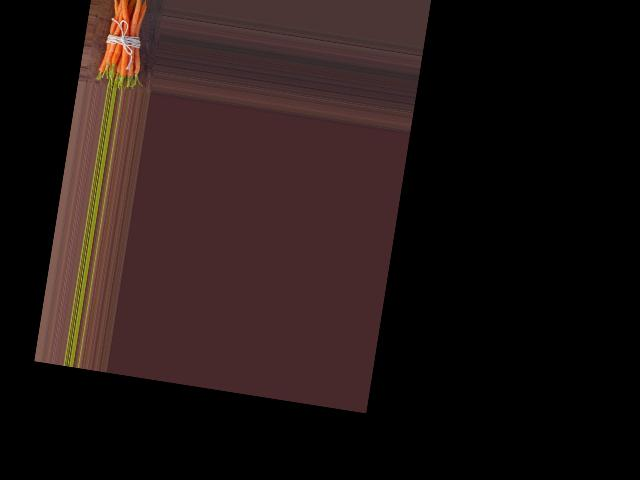carrot: (129, 2, 152, 82)
